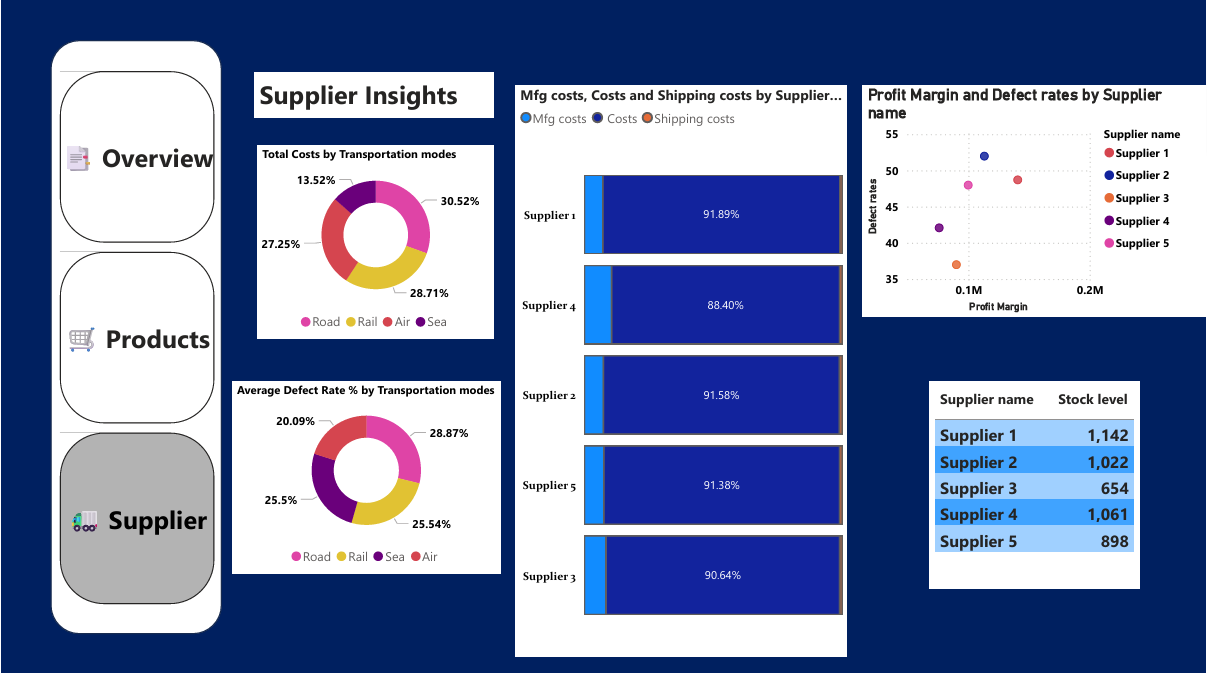

The dashboard page shown, as its layout file describes it:
{"tool":"powerbi","page":{"name":"🚛 Supplier","canvas":[1280,720],"ordinal":2},"visuals":[{"type":"donutChart","fields":{"Category":["supply_chain_data.Transportation modes"],"Y":["_Measures.Total Costs"]},"box":[272.1,153.7,251,205.9],"z":0},{"type":"donutChart","fields":{"Category":["supply_chain_data.Transportation modes"],"Y":["_Measures.Average Defect Rate %"]},"box":[245.3,404.7,284.8,204.5],"z":1},{"type":"hundredPercentStackedBarChart","fields":{"Category":["supply_chain_data.Supplier name"],"Y":["Sum(supply_chain_data.Mfg costs)","Sum(supply_chain_data.Costs)","Sum(supply_chain_data.Shipping costs)"]},"box":[545.7,90.2,352.5,606.3],"z":2},{"type":"tableEx","fields":{"Values":["supply_chain_data.Supplier name","_Measures.Stock level"]},"box":[985.6,404.7,224.2,220],"z":3},{"type":"scatterChart","fields":{"X":["Sum(supply_chain_data.Profit Margin)"],"Y":["Sum(supply_chain_data.Defect rates)"],"Series":["supply_chain_data.Supplier name"]},"box":[915.1,90.2,365.2,245.3],"z":4},{"type":"textbox","box":[269.3,76.1,253.8,47.9],"z":5},{"type":"pageNavigator","box":[62,74.7,163.6,568.2],"z":6}]}

Visuals, with their boxes in screenshot pixels (x1, y1, x2, y2), scaled from the page's 1280x720 canvas onto the 1207x673 screenshot:
donutChart - supply_chain_data.Transportation modes x _Measures.Total Costs: (257,144,493,336)
donutChart - supply_chain_data.Transportation modes x _Measures.Average Defect Rate %: (231,378,500,569)
hundredPercentStackedBarChart - supply_chain_data.Supplier name x Sum(supply_chain_data.Mfg costs): (515,84,847,651)
tableEx - supply_chain_data.Supplier name x _Measures.Stock level: (929,378,1141,584)
scatterChart - Sum(supply_chain_data.Profit Margin) x Sum(supply_chain_data.Defect rates): (863,84,1206,314)
textbox: (254,71,493,116)
pageNavigator: (58,70,213,601)
